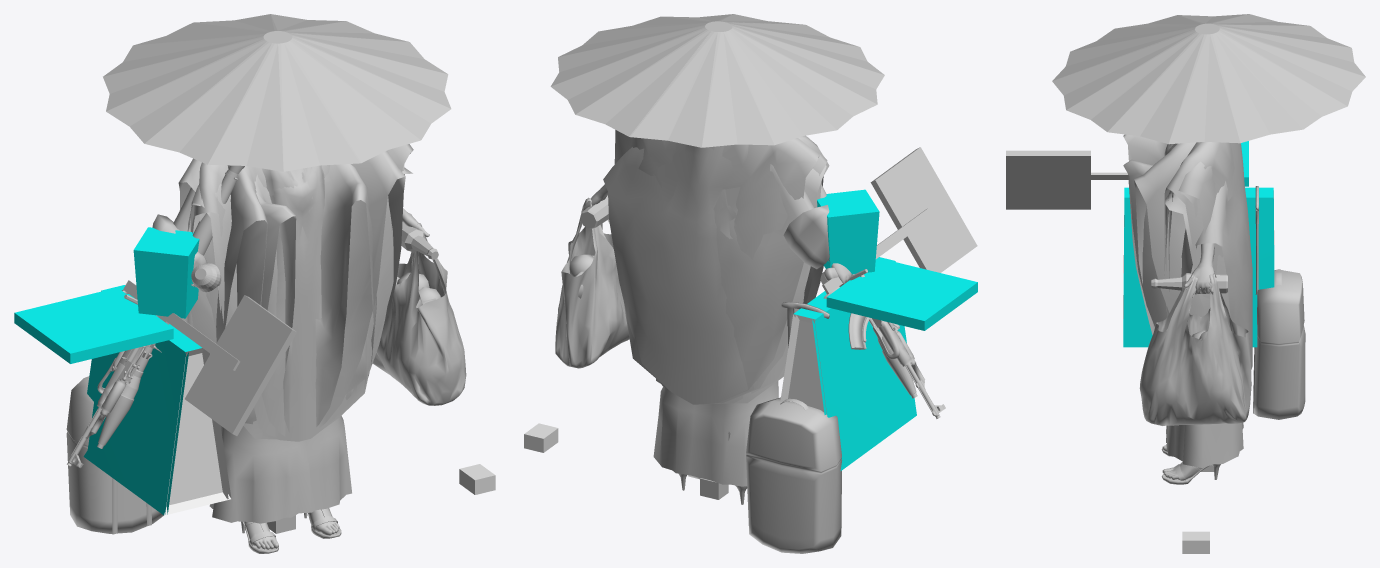
File: civilian4_arab.dae
3 views of the same model, side by side, from view 1: azimuth 30°, elevation 25°; view 2: azimuth 150°, elevation 25°; view 3: azimuth 270°, elevation 25° (orthographic). The views are drawn at different scales.
Visible parts, largest first — view 1: Umbrella1, Umbrella2, Coat010, Coat009, center, Handbag06, ShoppingBag, Coat007, ProtestSign, Handbag07, trolley, Handbag04 (+17 smaller); view 2: Coat002, Umbrella1, trolley, Umbrella2, Coat1, Handbag06, ShoppingBag, ProtestSign, center, Handbag07, Handbag02, Handbag05 (+10 smaller); view 3: Umbrella2, ShoppingBag, trolley, Umbrella1, ProtestSign, Coat009, Handbag05, Coat002, Coat010, Coat006, center, Coat005 (+6 smaller).
Part boxes in pixels (left/top/right/bottom): Umbrella1: left=103, top=22, right=360, bottom=171; Umbrella2: left=194, top=14, right=451, bottom=163; Coat010: left=236, top=164, right=376, bottom=433; Coat009: left=216, top=151, right=405, bottom=435; center: left=209, top=416, right=351, bottom=523; Handbag06: left=83, top=290, right=227, bottom=515; ShoppingBag: left=372, top=213, right=466, bottom=405; Coat007: left=206, top=167, right=412, bottom=441; ProtestSign: left=123, top=280, right=296, bottom=435; Handbag07: left=14, top=287, right=173, bottom=363; trolley: left=66, top=290, right=163, bottom=534; Handbag04: left=103, top=285, right=228, bottom=515; Coat002: left=603, top=138, right=819, bottom=404; Umbrella1: left=630, top=21, right=884, bottom=147; trolley: left=746, top=302, right=841, bottom=553; Umbrella2: left=550, top=14, right=805, bottom=136; Coat1: left=713, top=144, right=823, bottom=399; Handbag06: left=784, top=260, right=916, bottom=471; ShoppingBag: left=555, top=197, right=629, bottom=368; ProtestSign: left=822, top=147, right=977, bottom=294; center: left=653, top=381, right=778, bottom=486; Handbag07: left=826, top=258, right=977, bottom=330; Handbag02: left=817, top=190, right=879, bottom=274; Handbag05: left=780, top=291, right=826, bottom=414; Umbrella2: left=1052, top=29, right=1365, bottom=144; ShoppingBag: left=1139, top=273, right=1251, bottom=425; trolley: left=1253, top=186, right=1305, bottom=419; Umbrella1: left=1052, top=14, right=1365, bottom=80; ProtestSign: left=1006, top=150, right=1128, bottom=209; Coat009: left=1134, top=142, right=1205, bottom=329; Handbag05: left=1123, top=192, right=1274, bottom=347; Coat002: left=1190, top=143, right=1252, bottom=370; Coat010: left=1123, top=134, right=1168, bottom=334; Coat006: left=1164, top=142, right=1236, bottom=317; center: left=1166, top=422, right=1243, bottom=467; Coat005: left=1168, top=144, right=1223, bottom=313.
Size of the model in its own units: 1033 by 1096 by 818.
